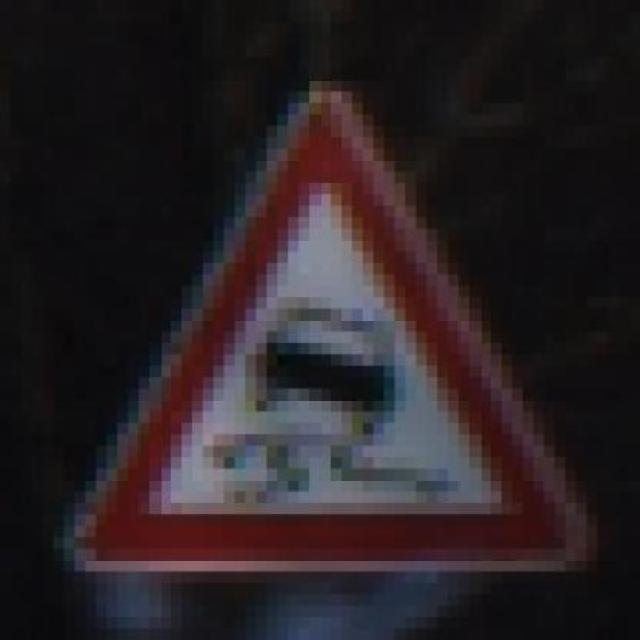Slippery Road Ahead: (75, 80, 598, 583)
